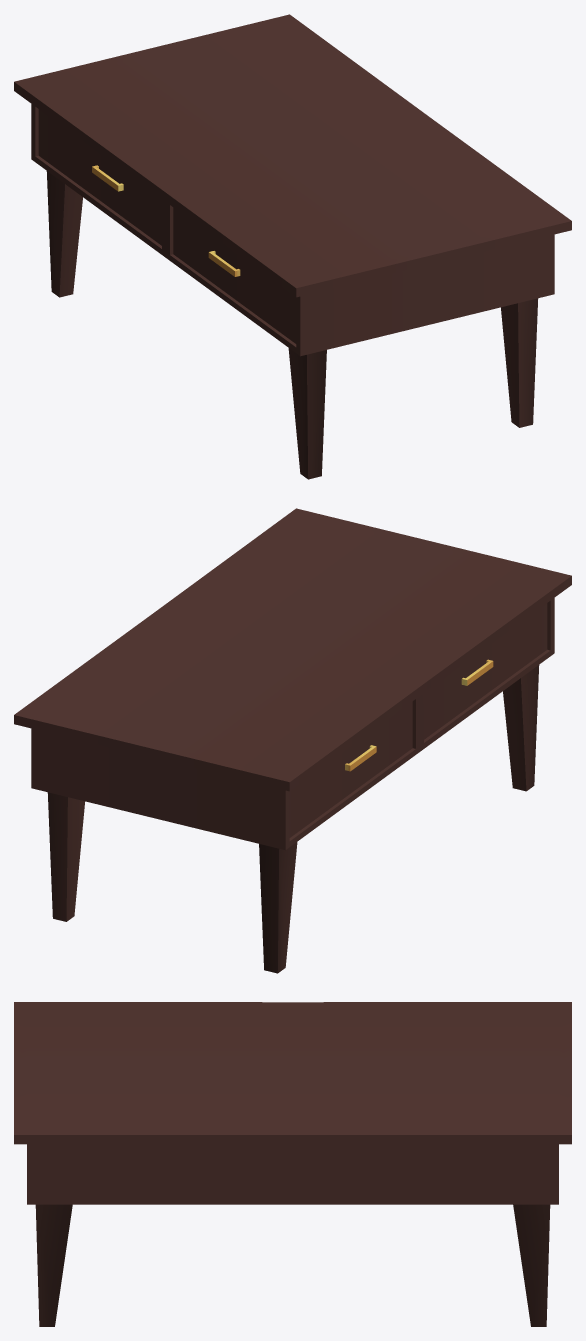
The model's file is SM_MesaJefe.fbx.
3 views of the same model, one above another, from view 1: azimuth 30°, elevation 25°; view 2: azimuth 150°, elevation 25°; view 3: azimuth 270°, elevation 25° (orthographic).
Parts seen in each view (by area): view 1: Cube.001, Cube; view 2: Cube.001, Cube; view 3: Cube.001.
Boxes of the visible parts, box(x1,y1,x2,y2) form: Cube.001: box(14, 14, 571, 479); Cube: box(92, 165, 240, 276); Cube.001: box(14, 508, 571, 973); Cube: box(345, 659, 493, 771); Cube.001: box(14, 1002, 571, 1326).
Size of the model in its own units: 104 by 74.84 by 185.
